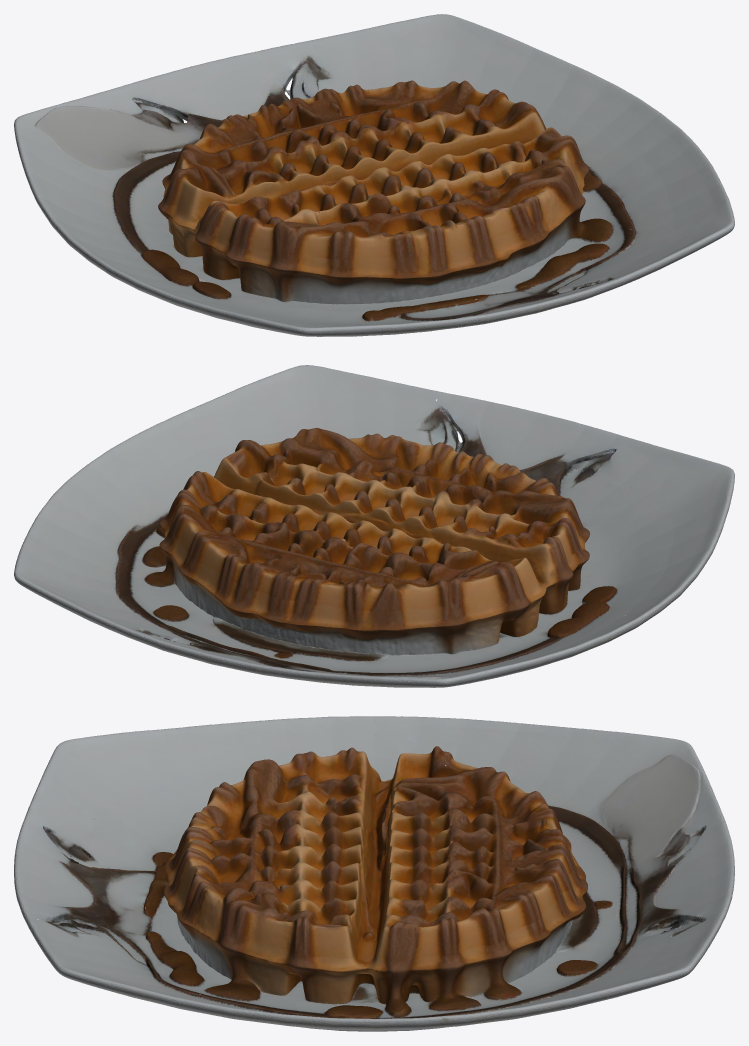
File: waffel-v1.glb
3 views of the same model, one above another, from view 1: azimuth 30°, elevation 25°; view 2: azimuth 150°, elevation 25°; view 3: azimuth 270°, elevation 25° (orthographic). The views are drawn at different scales.
Visible parts, largest first — view 1: tripo_node_28dc97be-c3a8-4c14-87e7-2e19d5c8720e; view 2: tripo_node_28dc97be-c3a8-4c14-87e7-2e19d5c8720e; view 3: tripo_node_28dc97be-c3a8-4c14-87e7-2e19d5c8720e.
Boxes of the visible parts, x1,y1,x2,y2 form: tripo_node_28dc97be-c3a8-4c14-87e7-2e19d5c8720e: [14, 14, 734, 336]; tripo_node_28dc97be-c3a8-4c14-87e7-2e19d5c8720e: [14, 365, 734, 687]; tripo_node_28dc97be-c3a8-4c14-87e7-2e19d5c8720e: [14, 716, 734, 1031].
Size of the model in its own units: 1 by 0.1362 by 1.
1 material, 1 textured.
